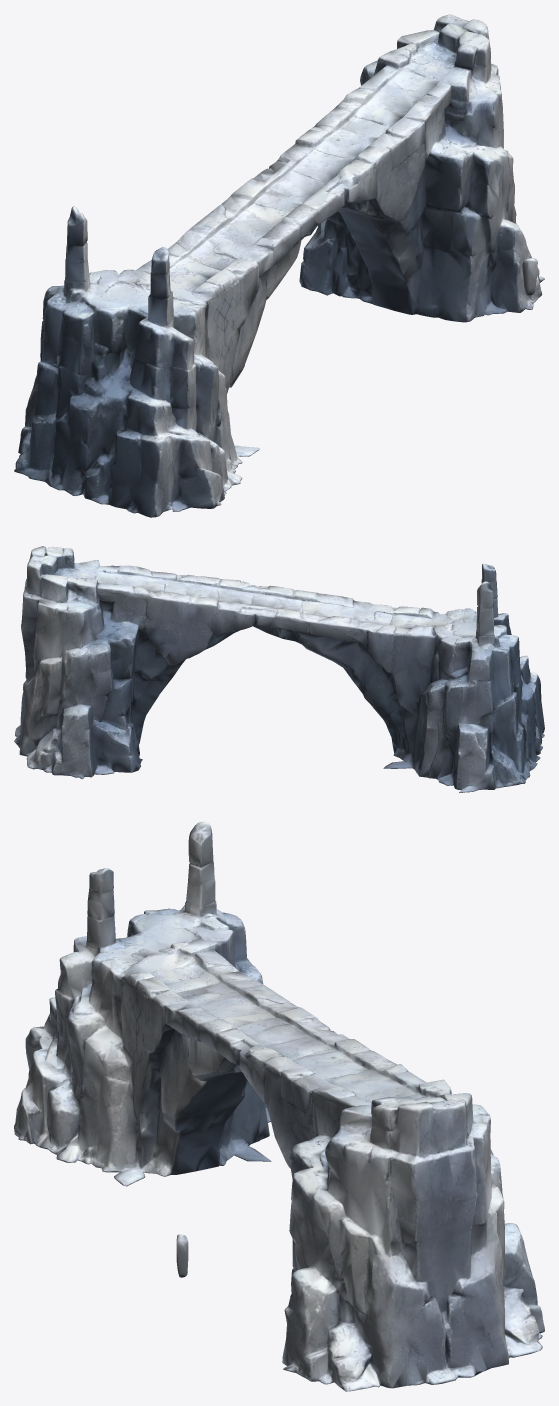
File: arco_ruina.glb
The picture shows the model from 3 angles, top to bottom: view 1: azimuth 30°, elevation 25°; view 2: azimuth 150°, elevation 25°; view 3: azimuth 270°, elevation 25°; orthographic projection. The views are drawn at different scales.
Parts seen in each view (by area): view 1: tripo_node_f76c917f-8f02-4746-930d-8556e4e80539; view 2: tripo_node_f76c917f-8f02-4746-930d-8556e4e80539; view 3: tripo_node_f76c917f-8f02-4746-930d-8556e4e80539.
Boxes of the visible parts, left/top/right/bottom form: tripo_node_f76c917f-8f02-4746-930d-8556e4e80539: left=14, top=14, right=544, bottom=517; tripo_node_f76c917f-8f02-4746-930d-8556e4e80539: left=14, top=546, right=544, bottom=792; tripo_node_f76c917f-8f02-4746-930d-8556e4e80539: left=14, top=821, right=544, bottom=1391.
Bounding box in the file's own units: 0.9997 × 0.4098 × 0.6959.
Materials: 1 (1 with a texture image).
